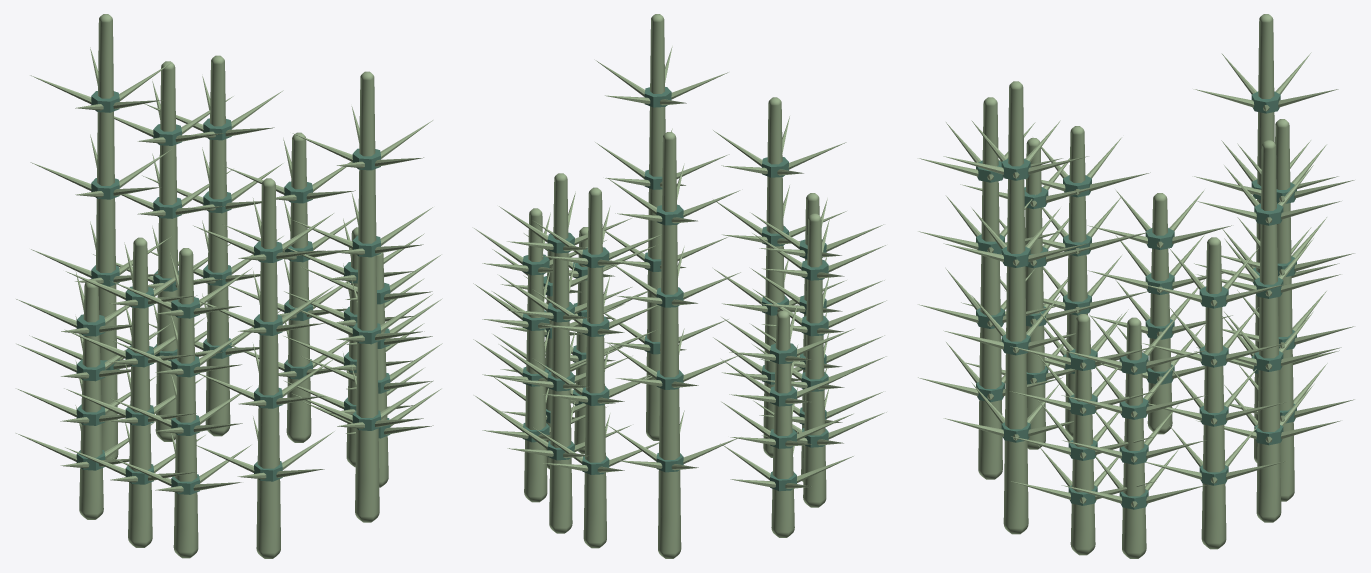
The model's file is horsetail_colony.glb.
3 renders of one model, left to right at view 1: azimuth 30°, elevation 25°; view 2: azimuth 150°, elevation 25°; view 3: azimuth 270°, elevation 25°, orthographic. The views are drawn at different scales.
Visible parts, largest first — view 1: horsetail-colony; view 2: horsetail-colony; view 3: horsetail-colony.
Boxes of the visible parts, bbox=[...] form: horsetail-colony: bbox=[16, 14, 442, 558]; horsetail-colony: bbox=[473, 14, 886, 558]; horsetail-colony: bbox=[918, 14, 1354, 558].
Bounding box in the file's own units: 1.23 × 1.41 × 1.24.
